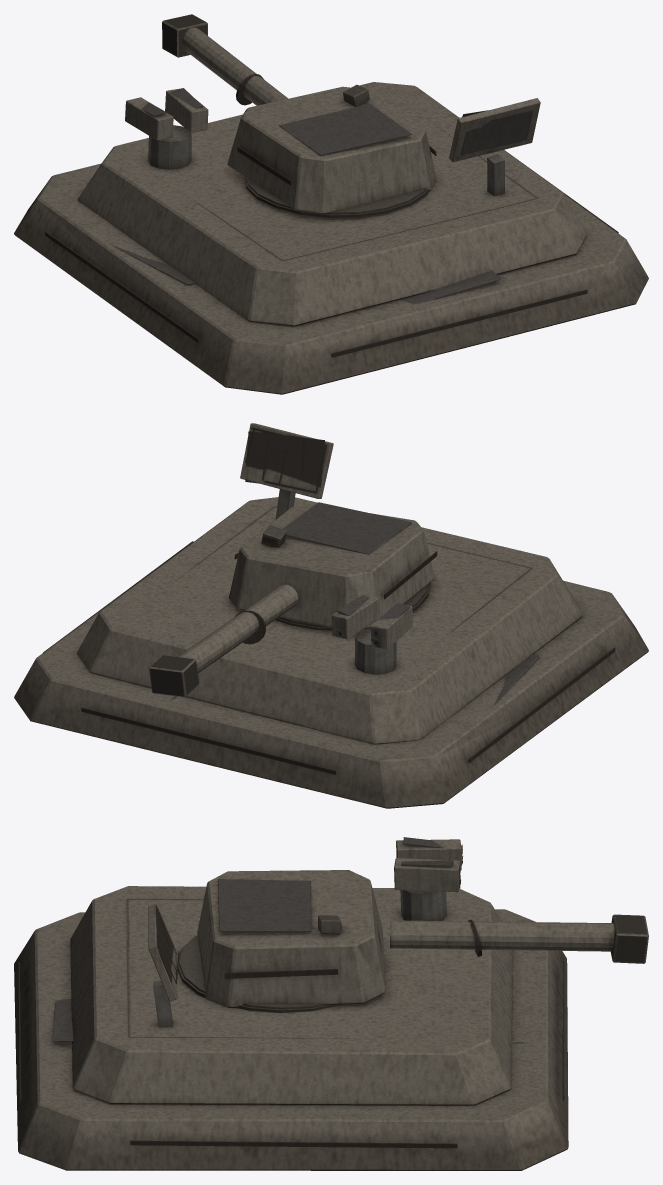
The model's file is ord_citadel_wreck.fbx.
3 views of the same model, one above another, from view 1: azimuth 30°, elevation 25°; view 2: azimuth 150°, elevation 25°; view 3: azimuth 270°, elevation 25° (orthographic). The views are drawn at different scales.
Parts seen in each view (by area): view 1: base_bar, turret_bar, barrel_bar, radar_bar, launcher_bar; view 2: base_bar, turret_bar, barrel_bar, radar_bar, launcher_bar; view 3: base_bar, turret_bar, barrel_bar, launcher_bar, radar_bar.
Part boxes in pixels (left/top/right/bottom): base_bar: left=14, top=82, right=648, bottom=394; turret_bar: left=227, top=84, right=436, bottom=214; barrel_bar: left=162, top=14, right=287, bottom=105; radar_bar: left=449, top=98, right=540, bottom=162; launcher_bar: left=125, top=88, right=208, bottom=140; base_bar: left=14, top=489, right=648, bottom=808; turret_bar: left=229, top=502, right=437, bottom=628; barrel_bar: left=149, top=584, right=298, bottom=697; radar_bar: left=240, top=423, right=333, bottom=498; launcher_bar: left=331, top=594, right=412, bottom=649; base_bar: left=14, top=886, right=568, bottom=1170; turret_bar: left=197, top=870, right=385, bottom=1007; barrel_bar: left=390, top=914, right=648, bottom=963; launcher_bar: left=394, top=837, right=462, bottom=892; radar_bar: left=148, top=904, right=179, bottom=1001.
Size of the model in its own units: 2357 by 1104 by 2731.
Materials: 2 (2 with a texture image).
